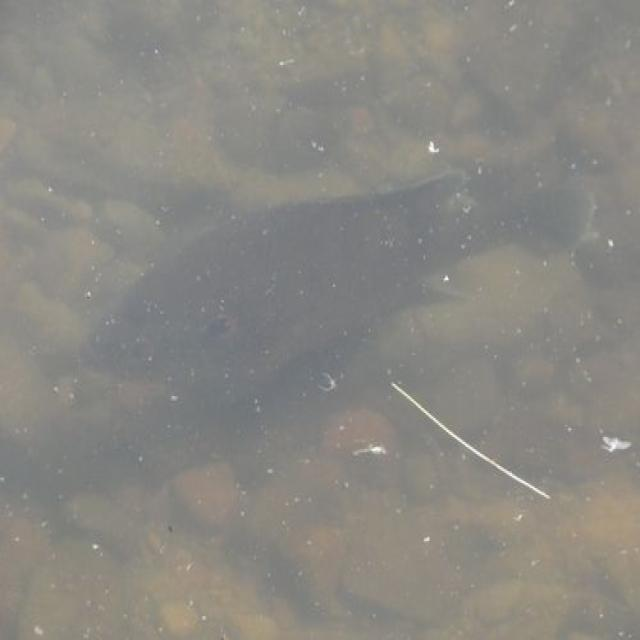Gunes Levregi: (78, 152, 604, 452)
